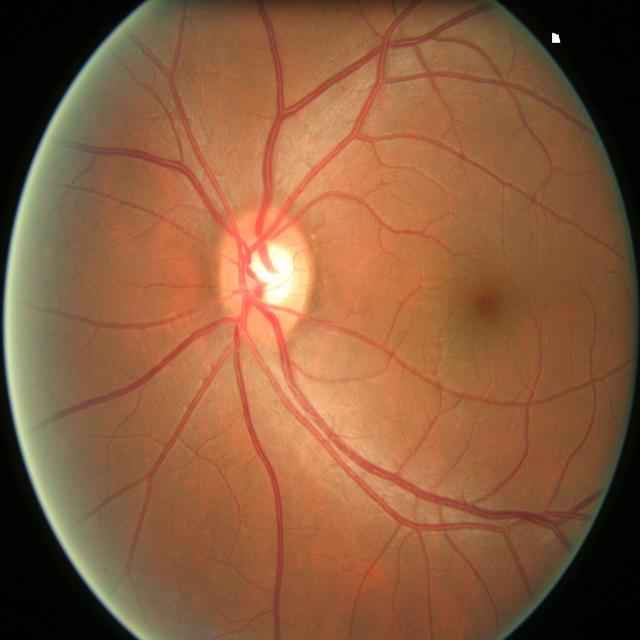OC: (241, 240, 298, 308)
OD: (220, 210, 315, 340)
